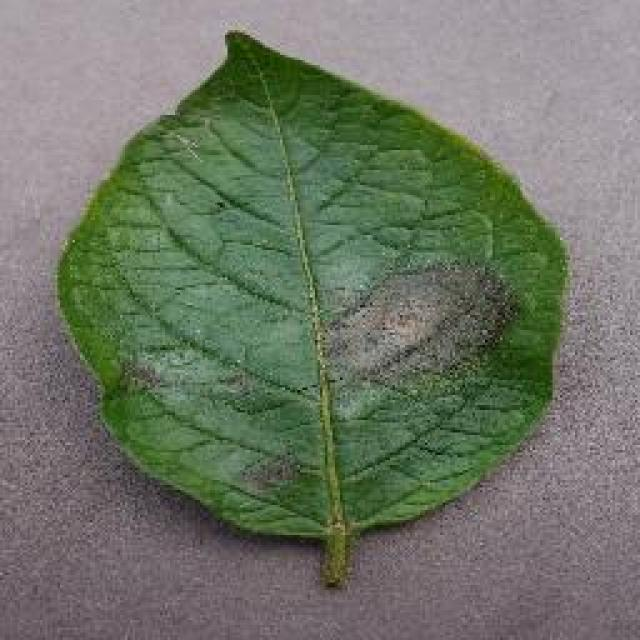late_blight: (50, 25, 572, 583)
